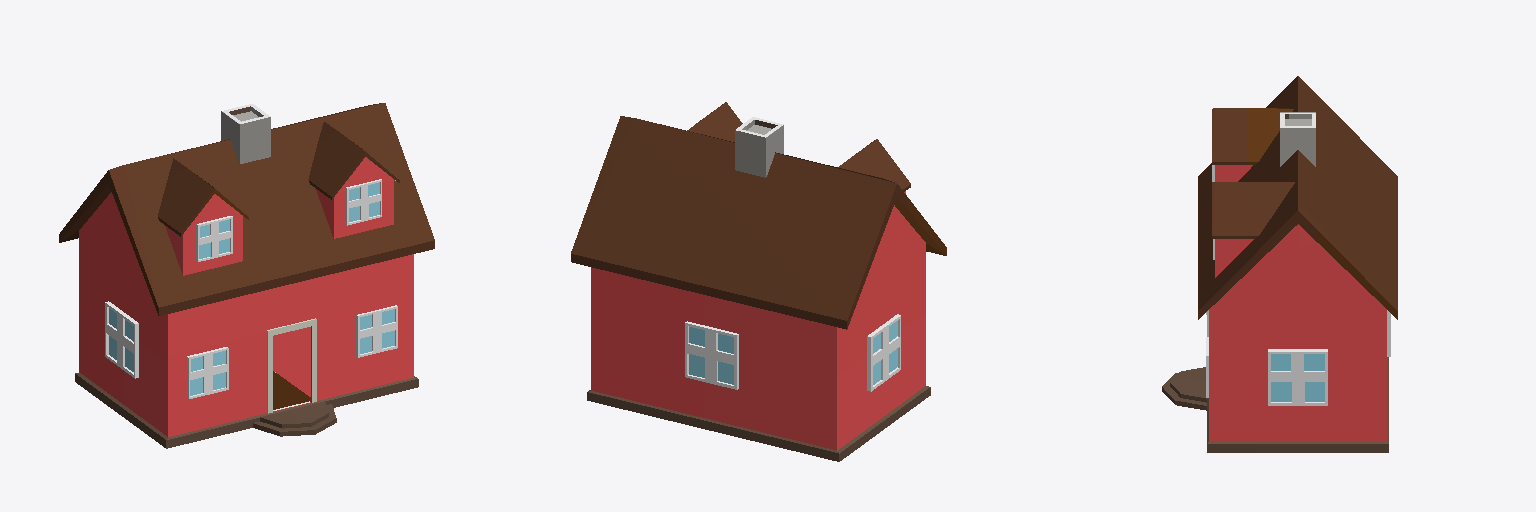
3 views of the same model, side by side, from view 1: azimuth 30°, elevation 25°; view 2: azimuth 150°, elevation 25°; view 3: azimuth 270°, elevation 25° (orthographic).
Parts seen in each view (by area): view 1: Low_Poly_House_7_Cube.001; view 2: Low_Poly_House_7_Cube.001; view 3: Low_Poly_House_7_Cube.001.
Part boxes in pixels (x1,y1,x2,y2): Low_Poly_House_7_Cube.001: (59, 103, 434, 448); Low_Poly_House_7_Cube.001: (571, 102, 946, 461); Low_Poly_House_7_Cube.001: (1162, 76, 1397, 452).
Size of the model in its own units: 6.89 by 6.45 by 5.1.
Materials: 1 (1 with a texture image).